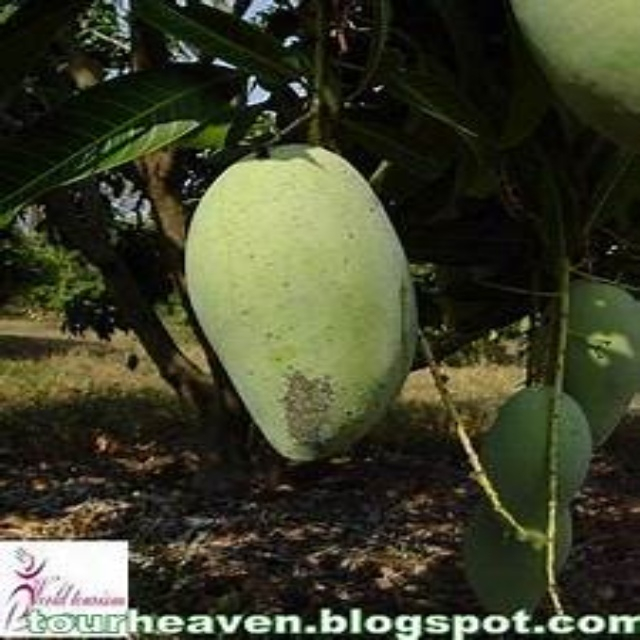mango: (193, 139, 422, 477), (539, 283, 639, 429), (453, 496, 575, 615), (480, 393, 599, 509)
